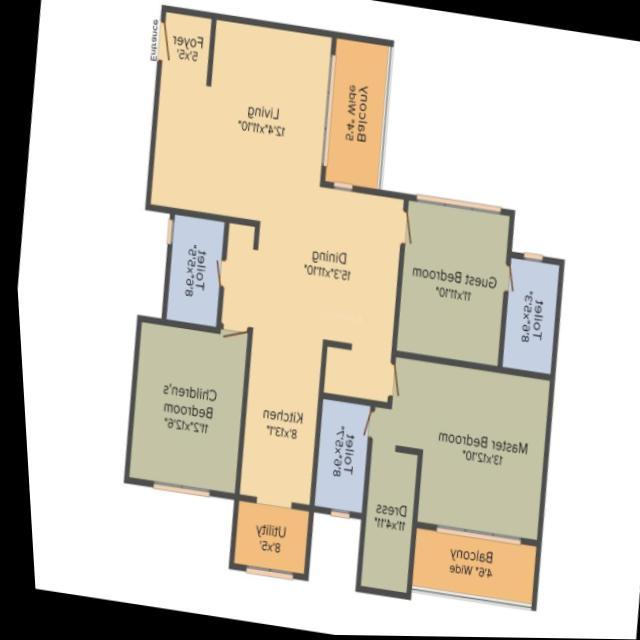Balcony-Sitout: (323, 40, 392, 192), (406, 530, 531, 608)
Bedroom: (126, 325, 242, 492)
Bedroom with Toilet: (305, 353, 547, 598), (388, 194, 560, 377)
Dining: (211, 181, 408, 353)
Dress: (350, 445, 417, 596)
Enterance-Foyer: (156, 7, 214, 86)
Kitchen: (234, 332, 319, 509)
Living: (144, 17, 334, 232)
Toilet: (161, 216, 224, 327), (497, 259, 557, 373), (308, 400, 367, 514)
Utility: (225, 503, 305, 578)
